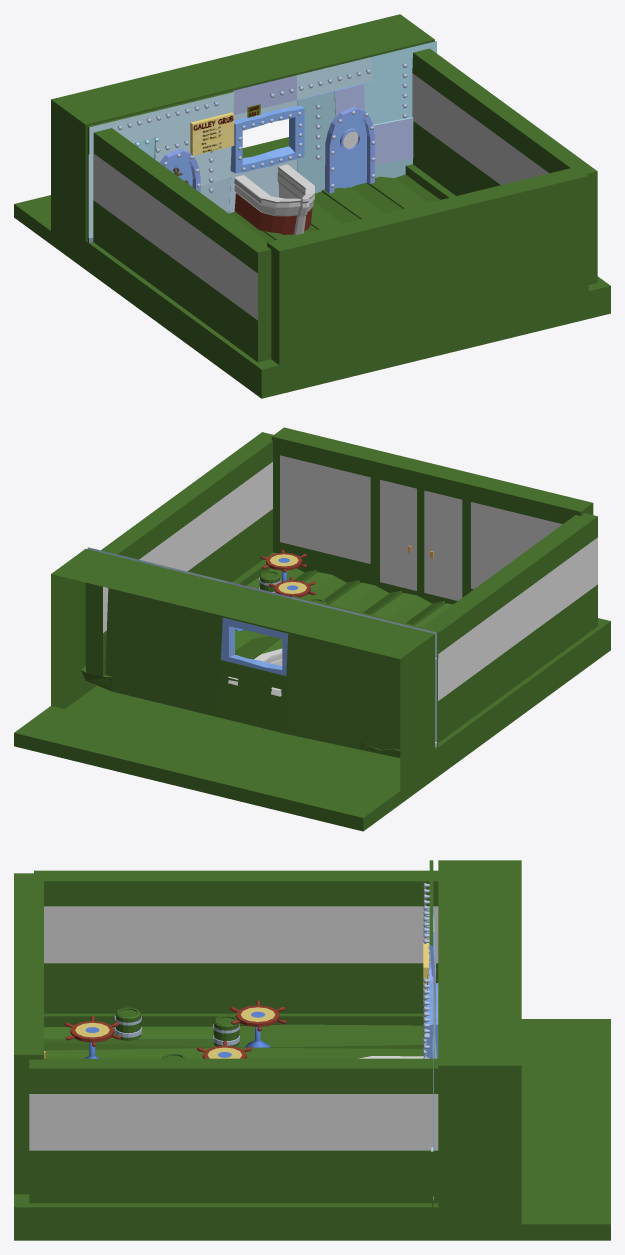
The model's file is jam2version4.fbx.
3 renders of one model, top to bottom at view 1: azimuth 30°, elevation 25°; view 2: azimuth 150°, elevation 25°; view 3: azimuth 270°, elevation 25°, orthographic. The views are drawn at different scales.
Visible parts, largest first — view 1: Krusty Krab, floor, boat, door, window, d6mnb0u-8dc5d329-d6f1-4861-a03e-821c8f0e60b9, door.001; view 2: Krusty Krab, floor, window, table.004; view 3: Krusty Krab, floor, Cylinder.001, table.003, table.001, Cylinder.047, window.
Part boxes in pixels (x1,y1,x2,y2): Krusty Krab: [14, 14, 610, 398]; floor: [229, 174, 440, 241]; boat: [234, 164, 314, 235]; door: [325, 106, 374, 193]; window: [230, 105, 304, 173]; d6mnb0u-8dc5d329-d6f1-4861-a03e-821c8f0e60b9: [190, 112, 234, 155]; door.001: [159, 149, 200, 192]; Krusty Krab: [14, 427, 610, 831]; floor: [235, 568, 452, 757]; window: [220, 617, 288, 675]; table.004: [266, 552, 302, 570]; Krusty Krab: [14, 860, 610, 1240]; floor: [44, 1024, 423, 1058]; Cylinder.001: [114, 1007, 141, 1040]; table.003: [70, 1021, 114, 1042]; table.001: [236, 1005, 279, 1026]; Cylinder.047: [213, 1015, 239, 1046]; window: [426, 983, 438, 1058].
Size of the model in its own units: 3417 by 1357 by 4197.
59 materials, 2 textured.
